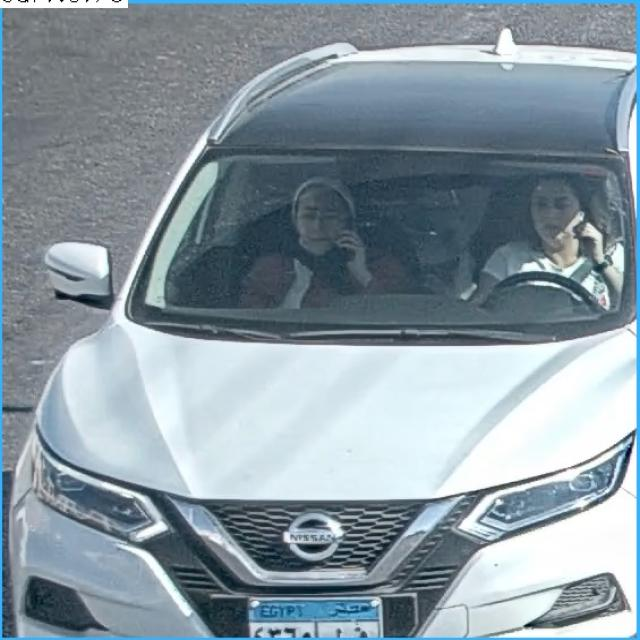windshield: (148, 147, 634, 332)
